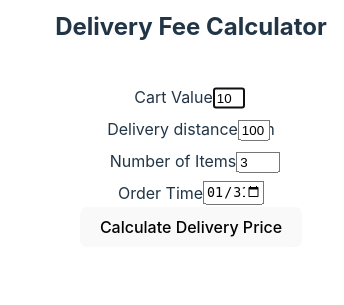
it: User fills out all 4 input fields with valid values, clicks the action button and the correct fee will be displayed
Replace the text in the number field labelled "Cart Value" with "20" at (229, 98), box [213,87,245,108]
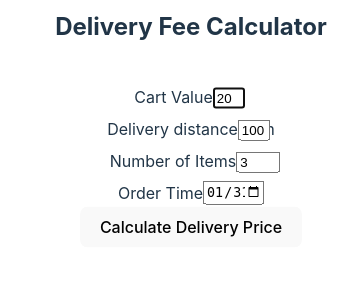
Replace the text in the number field labelled "Delivery distance" with "2235" at (254, 130), box [238,119,270,140]
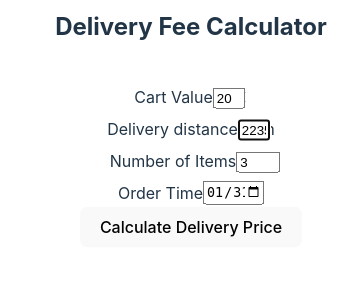
Replace the text in the number field labelled "Number of Items" with "4" at (258, 162), box [236,151,280,172]
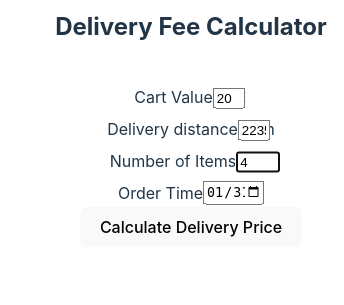
Replace the text in the field labelled "Order Time" with "(2024, 1, 31, 12)" at (234, 192), box [203,180,264,204]
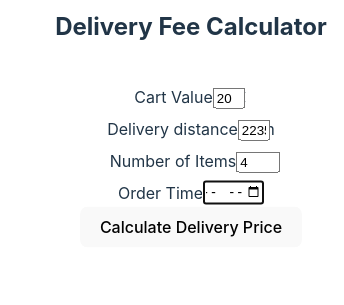
Click the button labelled "Calculate Delivery Price" at (191, 227), box [80,206,302,248]
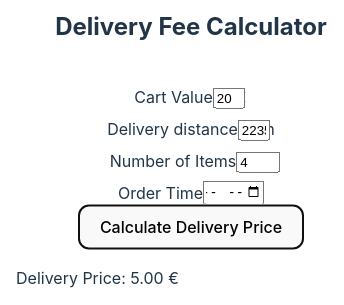
Now the text "Delivery Price: 5.00 €" is shown, box [16,268,179,288]
